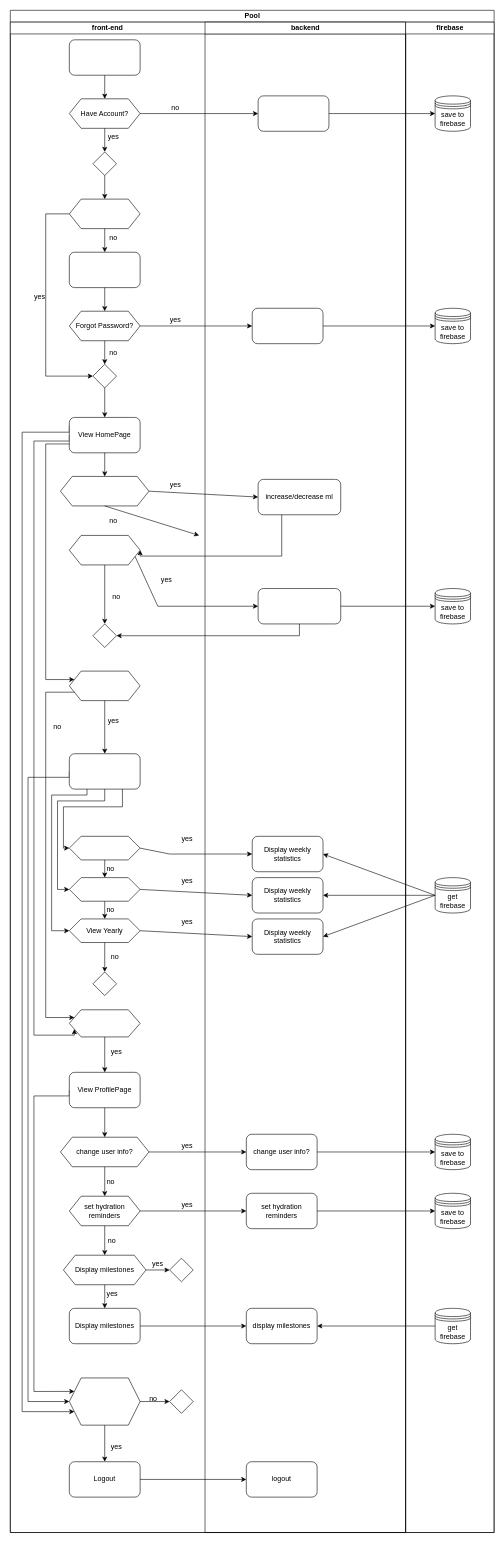
The diagram is 504 pixels wide and 1543 high, and some of its shapes have lost their labels. Each missing label, with the centre of its shape:
"change ml?" goes at pixel 104 491.
"Change Password" goes at pixel 287 326.
"Create Account" goes at pixel 293 113.
"Input Password and UserID" goes at pixel 104 270.
"launch app" goes at pixel 104 57.
"Logged in?" goes at pixel 104 214.
"Logout?" goes at pixel 104 1401.
"record ml" goes at pixel 299 606.
"record ml?" goes at pixel 104 550.
"View Monthly" goes at pixel 104 889.
"View ProfilePage?" goes at pixel 104 1023.
"View StatisticPage?" goes at pixel 104 686.
"View StatisticsPage" goes at pixel 104 771.
"View Weekly?" goes at pixel 104 848.
